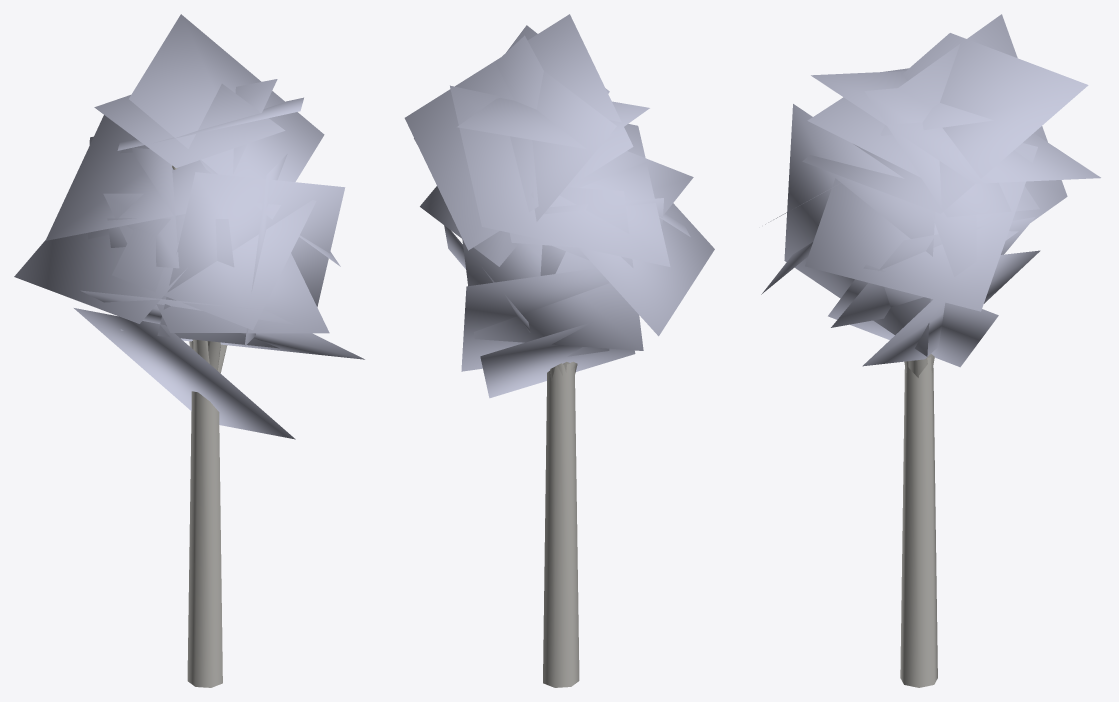
File: birch1.glb
3 renders of one model, left to right at view 1: azimuth 30°, elevation 25°; view 2: azimuth 150°, elevation 25°; view 3: azimuth 270°, elevation 25°, orthographic. The views are drawn at different scales.
Visible parts, largest first — view 1: leaves, bark; view 2: leaves, bark; view 3: leaves, bark.
Part boxes in pixels (x1=…): leaves: x1=14, y1=14, x2=364, y2=439; bark: x1=172, y1=165, x2=227, y2=687; leaves: x1=404, y1=14, x2=714, y2=398; bark: x1=543, y1=361, x2=579, y2=687; leaves: x1=761, y1=14, x2=1100, y2=367; bark: x1=900, y1=354, x2=937, y2=687.
Bounding box in the file's own units: 5.28 × 10.74 × 5.41.
